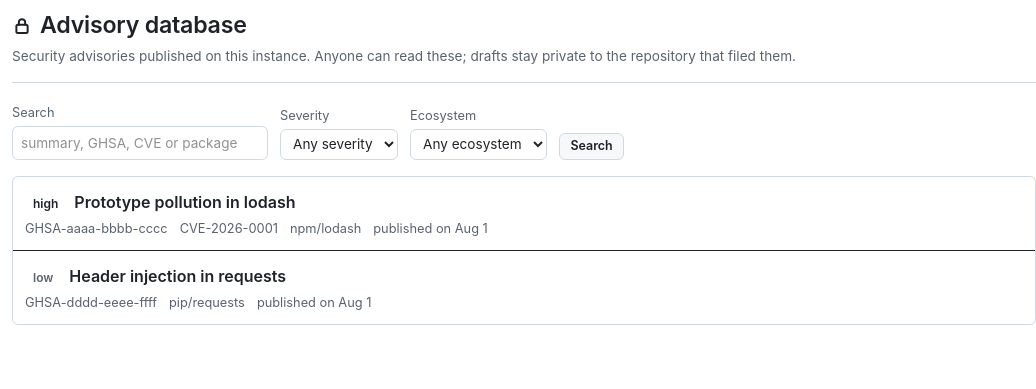
Test: GlobalAdvisoriesPage › sends the severity and ecosystem filters to the advisories endpoint
The width and height of the screenshot is (1036, 389).
expect the link "Prototype pollution in lodash" is shown: met, box top-left (74, 189), bottom-right (296, 215)
Select "pip" in the dropdown labelled "Ecosystem": point(478, 144) top-left (410, 129), bottom-right (547, 160)
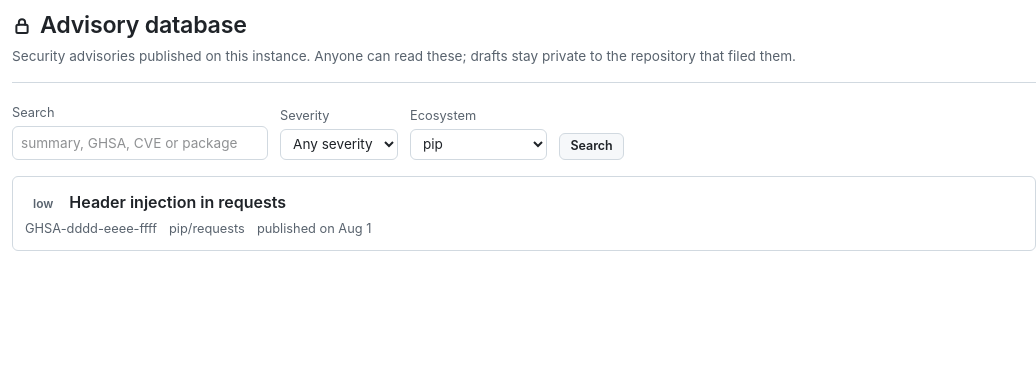
expect the link "Header injection in requests" is shown: met, box top-left (69, 189), bottom-right (286, 215)
expect the link "Prototype pollution in lodash" is gone: met
Select "critical" in the dropdown labelled "Severity": point(339, 144) top-left (280, 129), bottom-right (398, 160)
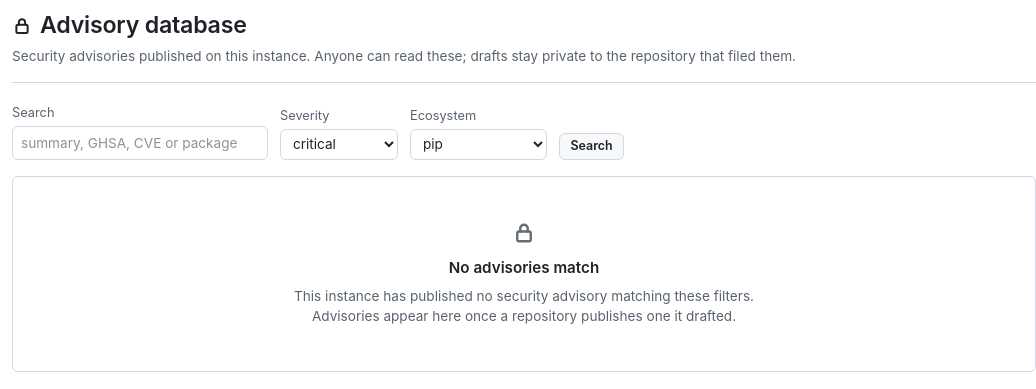
expect the text "No advisories match" is shown: met, box top-left (449, 257), bottom-right (599, 279)
